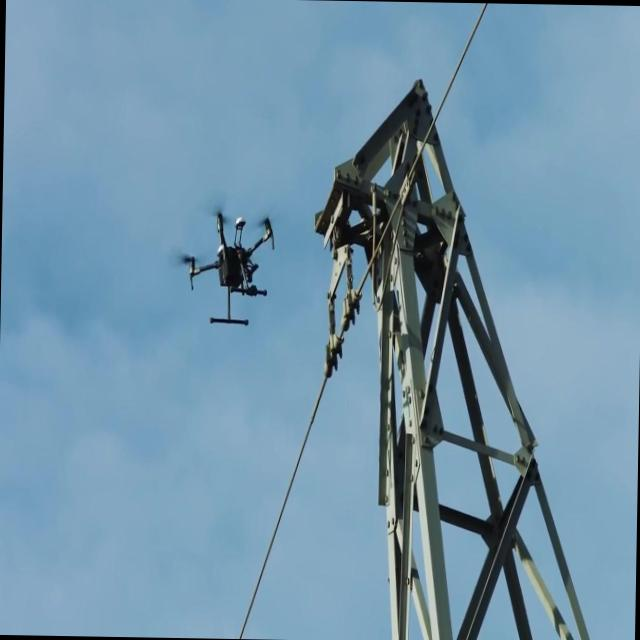drone: (175, 201, 278, 335)
